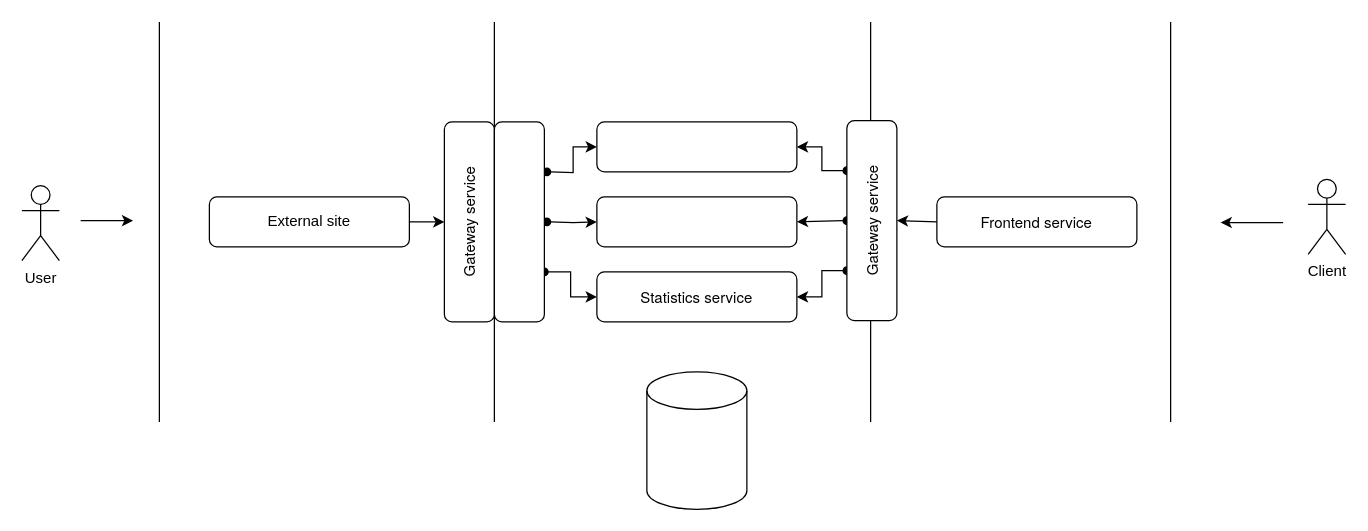
Image size: 1368x531. Some labels were removed from this diagram. Each missing label, with the centre of its shape:
"Advertising service" goes at point 696,146.
"Message broker" goes at point 518,221.
"Storage" goes at point 696,440.
"Targeting service" goes at point 696,221.
